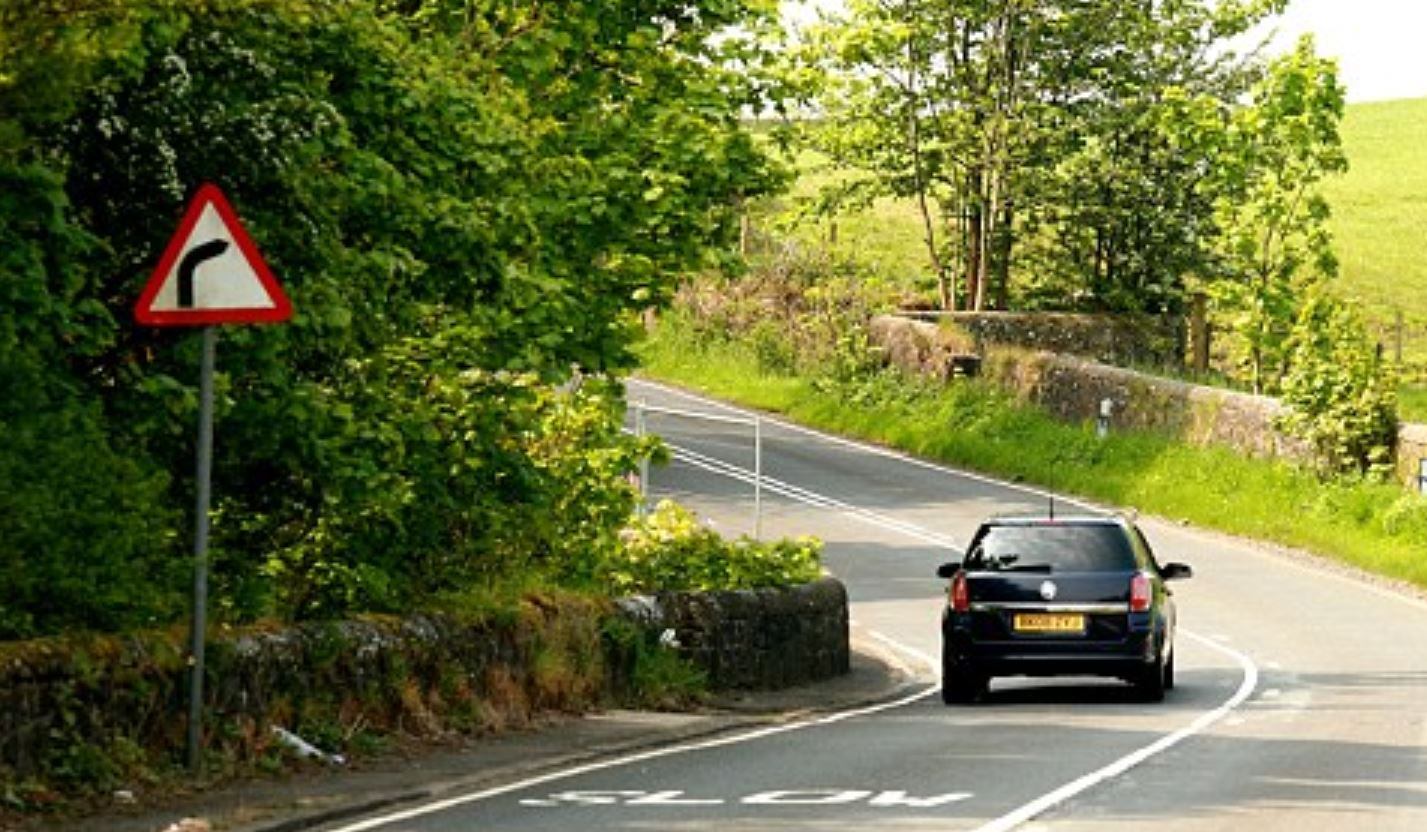Bend_to_right: (121, 178, 305, 329)
car: (927, 498, 1201, 709)
